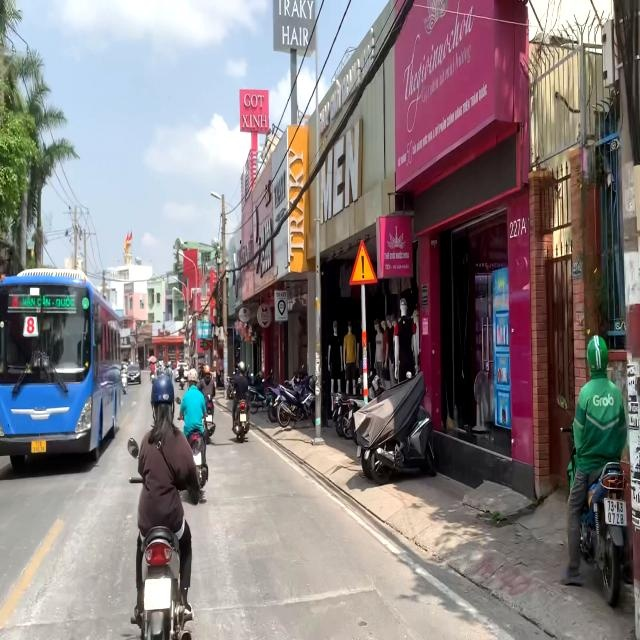bien_nguy_hiem: (348, 238, 378, 287)
